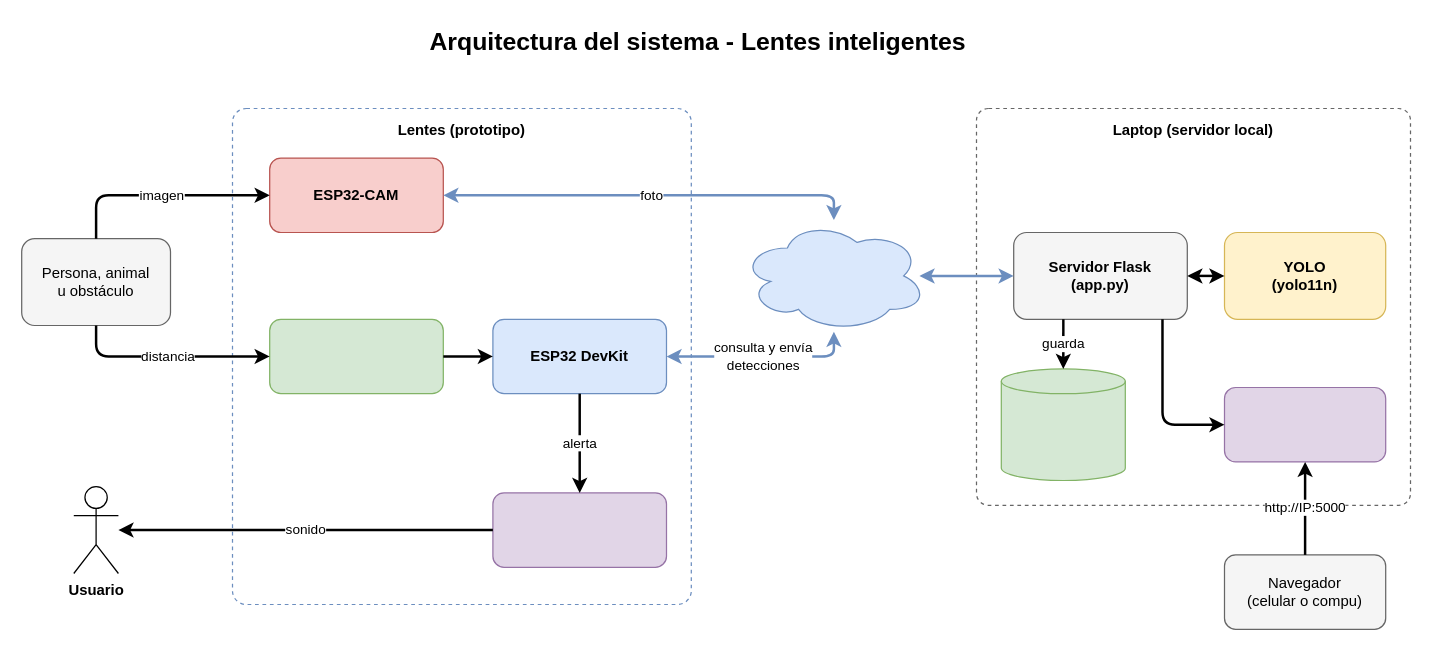
Image size: 1432x651. Some labels were removed from this diagram. Here are the shapes that lost their labels. From the top down, the centre of each, then its label:
[833,275]: Red Wi-Fi local
[355,356]: Sensor HC-SR04
[1062,424]: Base de datos SQLite
[1304,424]: Página web
[579,529]: Buzzer
